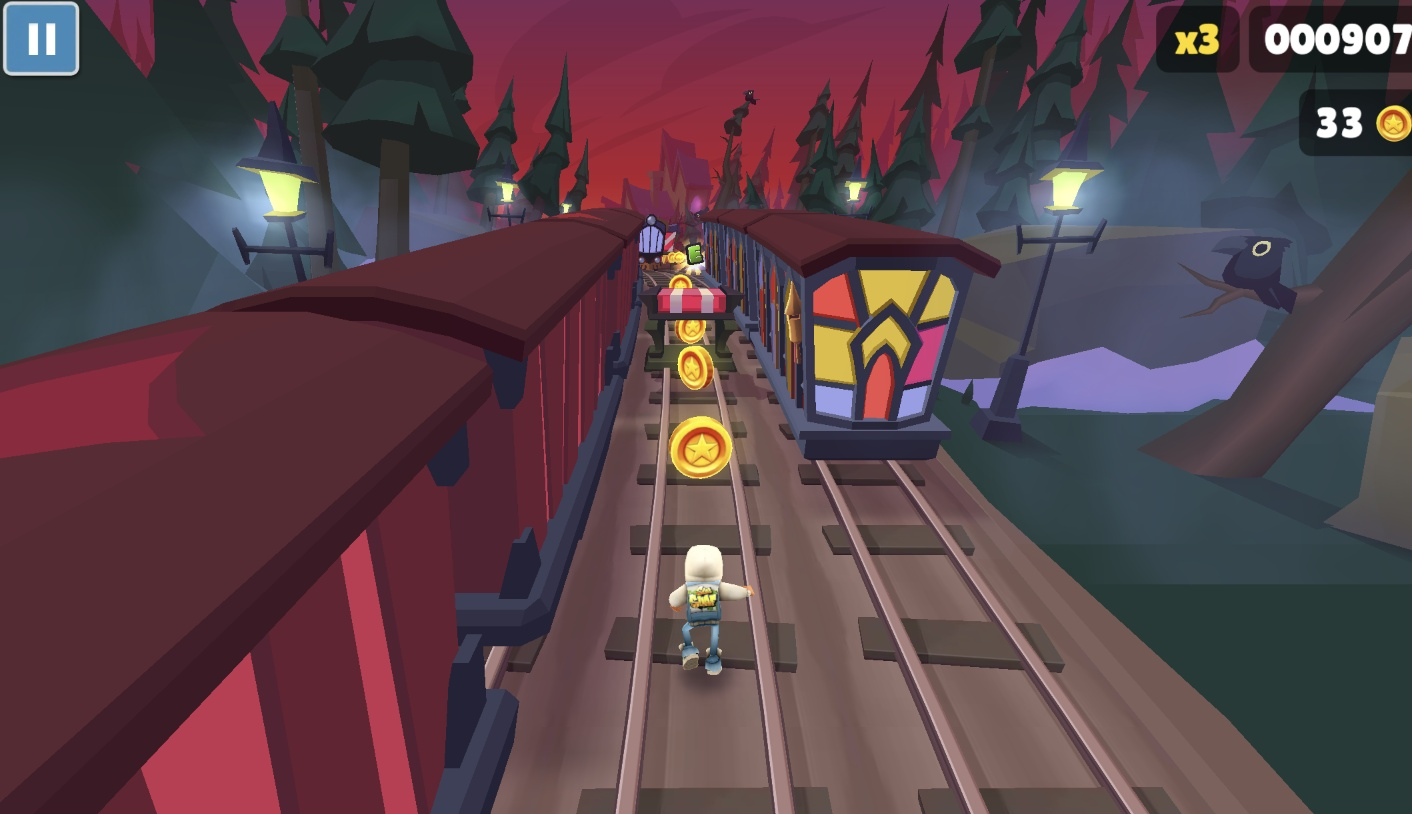ground_barrier: (638, 285, 742, 372)
overhead_barrier: (665, 217, 687, 263)
train: (0, 217, 650, 814), (696, 218, 1025, 495), (639, 219, 678, 273)
